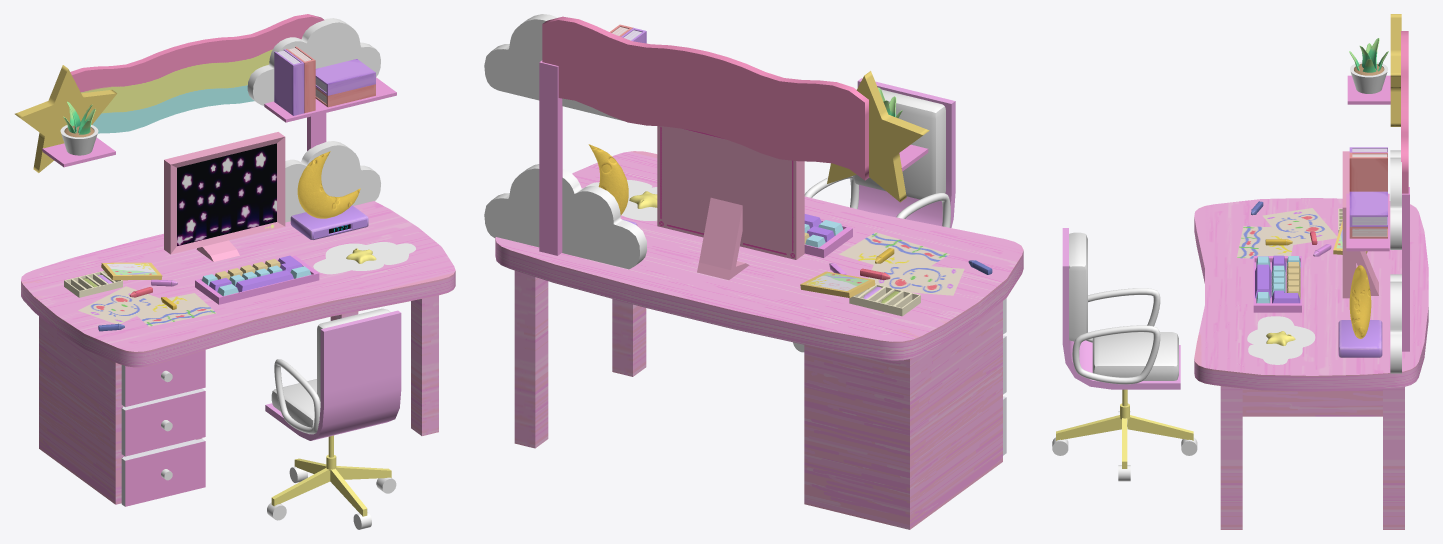
File: hacker-room.glb
3 renders of one model, left to right at view 1: azimuth 30°, elevation 25°; view 2: azimuth 150°, elevation 25°; view 3: azimuth 270°, elevation 25°, orthographic. The views are drawn at different scales.
Parts seen in each view (by area): view 1: Table_Material #76_0, Arc_Material #75_0, Monitir, Sllsprte, Cajns02_Material #72_0, Cajns01_Material #72_0, Cld 2, Cld 1, Str, Cajns00_Material #72_0, Cld alfm, Moon_Material #86_0 (+21 smaller); view 2: Table_Material #76_0, Arc_Material #75_0, Monitir, Cld 1, Pvt, Str, Cjnes01, Cld 2, Sllsprte, Djo1, Dj2, Cjclr (+5 smaller); view 3: Table_Material #76_0, Cjnes00, Sllsprte, Cld alfm, Cjnes01, Djo1, Psmno00, Monitir, Mn.book001, Time, Mn.book002, Moon_Material #86_0 (+15 smaller).
Boxes of the visible parts, x1,y1,x2,y2 form: Table_Material #76_0: [21, 201, 455, 504]; Arc_Material #75_0: [70, 14, 324, 133]; Monitir: [164, 132, 285, 261]; Sllsprte: [265, 310, 401, 440]; Cajns02_Material #72_0: [121, 438, 205, 506]; Cajns01_Material #72_0: [121, 388, 205, 456]; Cld 2: [247, 18, 380, 105]; Cld 1: [285, 141, 380, 222]; Str: [15, 65, 116, 172]; Cajns00_Material #72_0: [121, 350, 205, 406]; Cld alfm: [313, 242, 415, 274]; Moon_Material #86_0: [297, 151, 360, 218]; Table_Material #76_0: [495, 151, 1023, 529]; Arc_Material #75_0: [542, 16, 869, 180]; Monitir: [657, 126, 804, 279]; Cld 1: [484, 164, 646, 269]; Pvt: [539, 60, 562, 255]; Str: [827, 71, 929, 202]; Cjnes01: [853, 89, 945, 199]; Cld 2: [484, 14, 622, 120]; Sllsprte: [857, 78, 955, 227]; Djo1: [868, 262, 964, 295]; Dj2: [839, 232, 949, 266]; Cjclr: [849, 284, 920, 316]; Table_Material #76_0: [1194, 198, 1428, 529]; Cjnes00: [1092, 332, 1178, 380]; Sllsprte: [1062, 228, 1180, 389]; Cld alfm: [1247, 316, 1315, 364]; Cjnes01: [1069, 232, 1087, 341]; Djo1: [1262, 208, 1337, 245]; Psmno00: [1072, 325, 1160, 384]; Monitir: [1342, 151, 1378, 298]; Mn.book001: [1349, 152, 1387, 191]; Time: [1338, 320, 1382, 357]; Mn.book002: [1349, 191, 1387, 226]; Moon_Material #86_0: [1349, 265, 1371, 338].
Size of the model in its own units: 1.95 by 1.91 by 1.74.
Materials: 31 (18 with a texture image).
